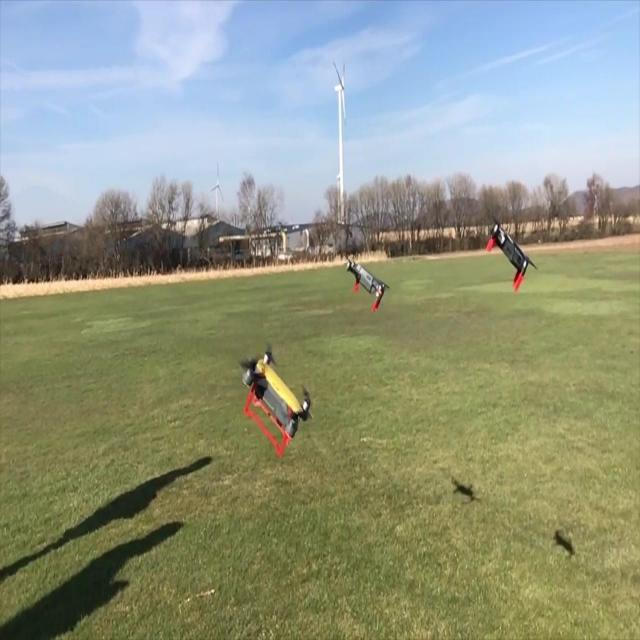UAV: (238, 341, 313, 459), (485, 210, 538, 292), (346, 258, 390, 314)
